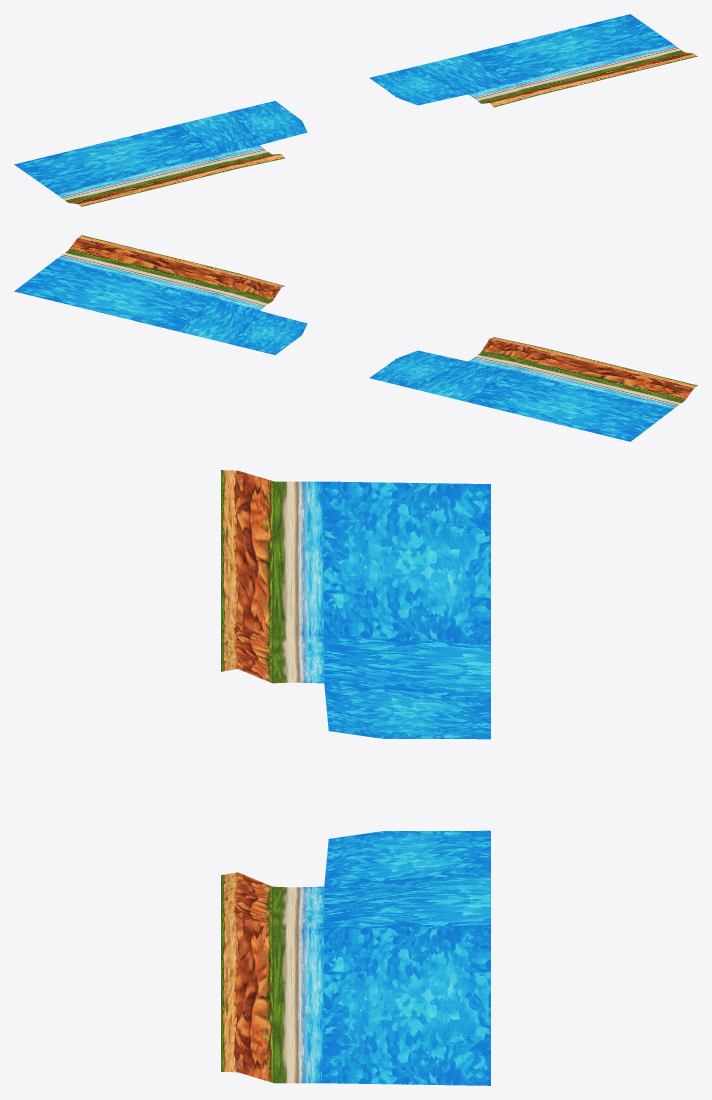
The model's file is bch_end_far.fbx.
3 renders of one model, top to bottom at view 1: azimuth 30°, elevation 25°; view 2: azimuth 150°, elevation 25°; view 3: azimuth 270°, elevation 25°, orthographic. The views are drawn at different scales.
Visible parts, largest first — view 1: bch_end_far; view 2: bch_end_far; view 3: bch_end_far.
Part boxes in pixels (x1,y1,x2,y2): bch_end_far: [14, 14, 697, 206]; bch_end_far: [14, 235, 697, 441]; bch_end_far: [221, 470, 490, 1085].
Size of the model in its own units: 52756 by 616 by 10000.
